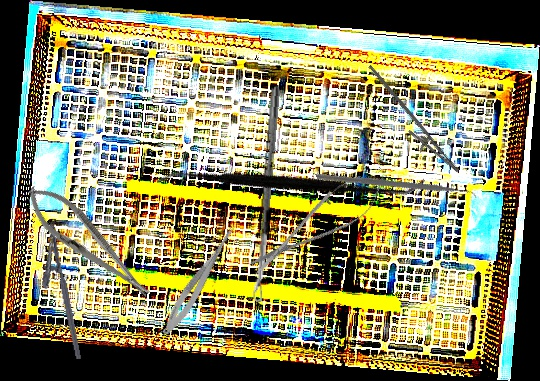Chopper: (315, 115, 480, 264)
Micro Scissor: (238, 160, 397, 288), (158, 216, 242, 340)
Needle Holder: (17, 175, 160, 310), (349, 64, 472, 181), (29, 220, 83, 364)
Spatula Surgical: (154, 63, 427, 298)
Surgical Spoon: (251, 83, 281, 303)
